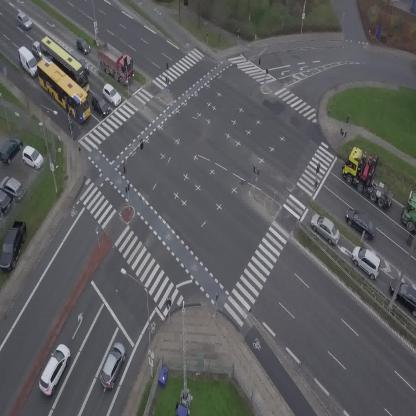bus: (29, 54, 100, 124), (33, 34, 99, 94)
car: (33, 341, 75, 397), (96, 340, 130, 390), (339, 204, 382, 242), (346, 243, 387, 280), (306, 210, 345, 247), (98, 81, 124, 108), (87, 92, 112, 119), (71, 35, 93, 57), (12, 11, 34, 32), (72, 51, 88, 65), (31, 41, 40, 58)
lorry: (334, 142, 409, 211), (88, 37, 142, 88), (12, 44, 43, 80), (402, 193, 416, 232)
